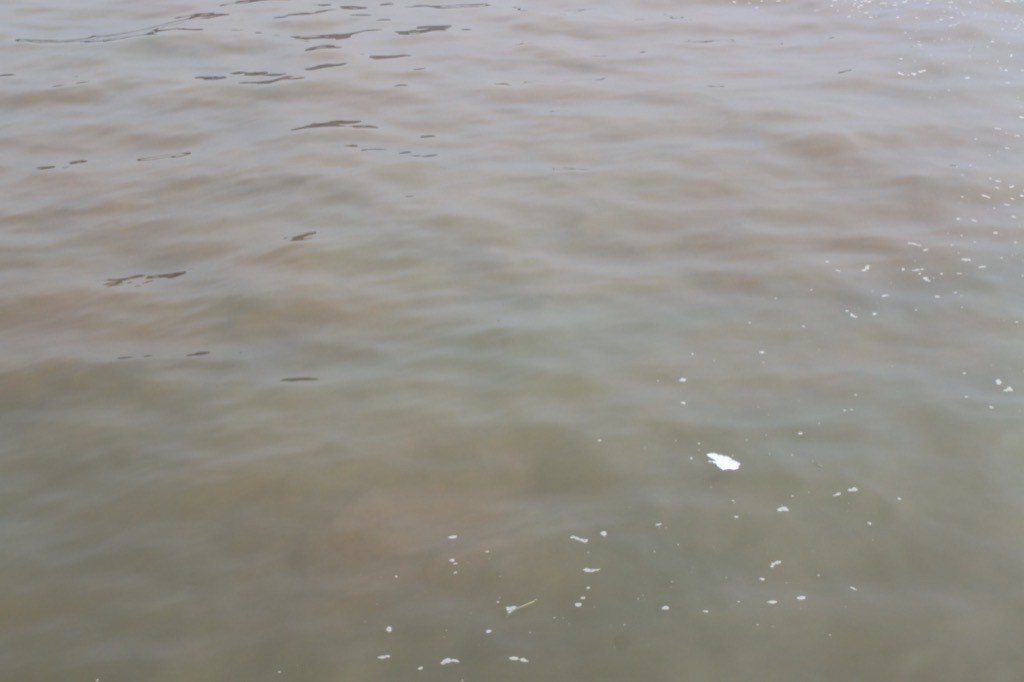plastic: (701, 447, 748, 477)
